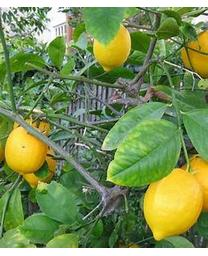lemon: (146, 169, 204, 239), (6, 124, 47, 173), (93, 25, 131, 73)
